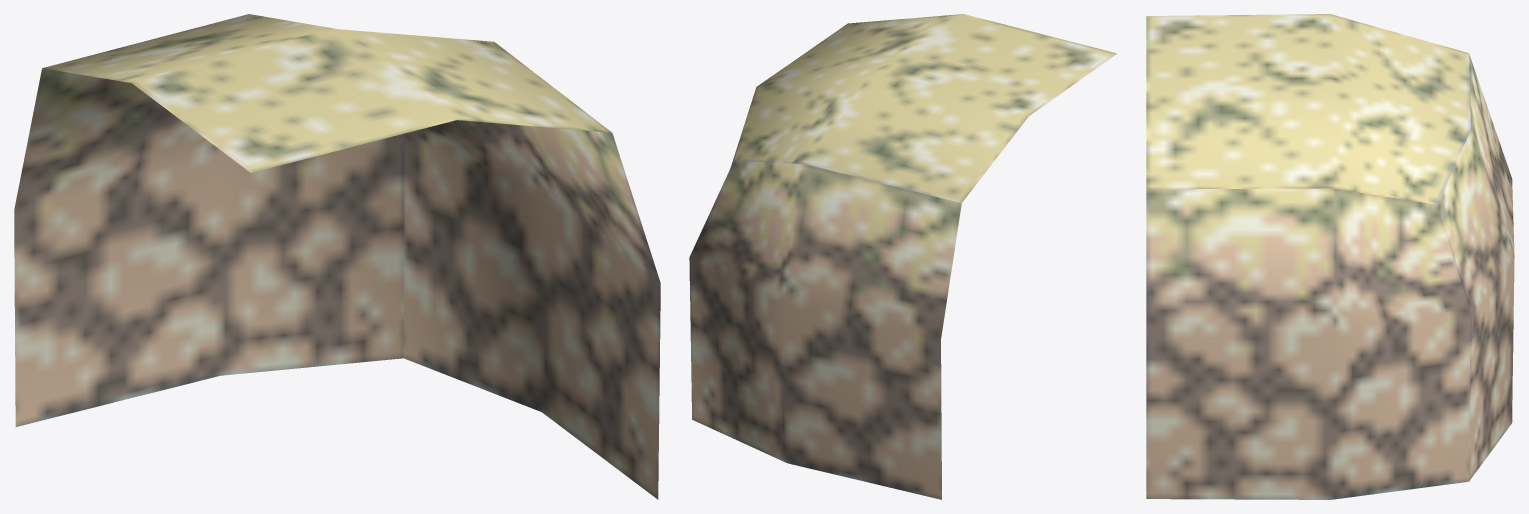
File: sandSTile_groundCorner_upperRight.fbx
The picture shows the model from 3 angles, left to right: view 1: azimuth 30°, elevation 25°; view 2: azimuth 150°, elevation 25°; view 3: azimuth 270°, elevation 25°; orthographic projection. The views are drawn at different scales.
Visible parts, largest first — view 1: sandSTile_groundCorner_upperRight; view 2: sandSTile_groundCorner_upperRight; view 3: sandSTile_groundCorner_upperRight.
Boxes of the visible parts, <box> form: sandSTile_groundCorner_upperRight: <box>14,14,660,499</box>; sandSTile_groundCorner_upperRight: <box>689,14,1116,499</box>; sandSTile_groundCorner_upperRight: <box>1146,14,1514,499</box>.
Bounding box in the file's own units: 1.01 × 1.01 × 1.01.
